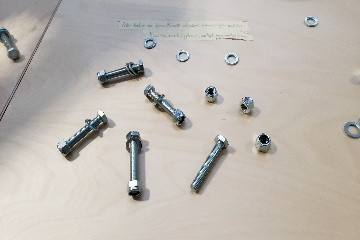Bolt: (186, 130, 235, 197)
FalseAssembly: (51, 108, 113, 160), (125, 131, 146, 198), (1, 25, 24, 63)
FinishedAssembly: (142, 83, 188, 126), (94, 59, 148, 86)
Nut: (250, 131, 277, 154), (238, 95, 257, 114), (204, 85, 219, 102)
Washer: (342, 120, 360, 139), (223, 51, 241, 67), (175, 48, 192, 63), (141, 36, 158, 49), (304, 15, 319, 27)
